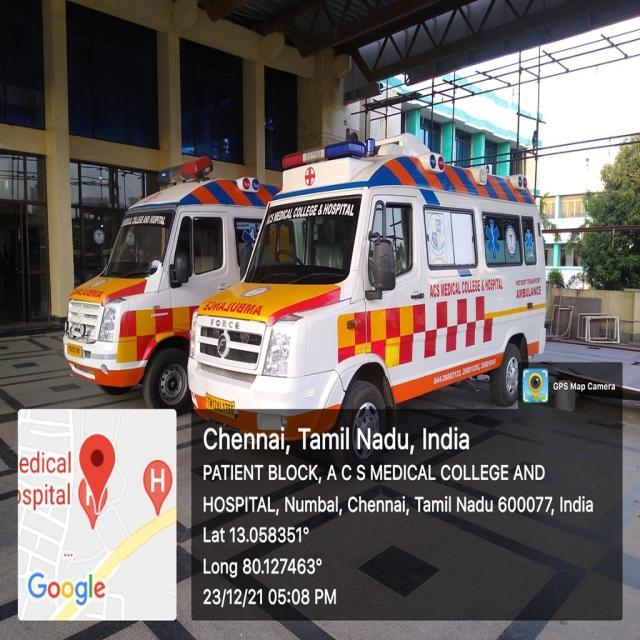ambulance: (196, 135, 558, 415), (68, 163, 206, 387)
